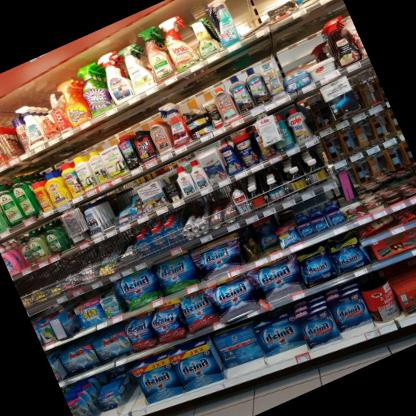empty_space: (101, 363, 146, 415), (225, 0, 269, 38), (87, 191, 118, 232)
